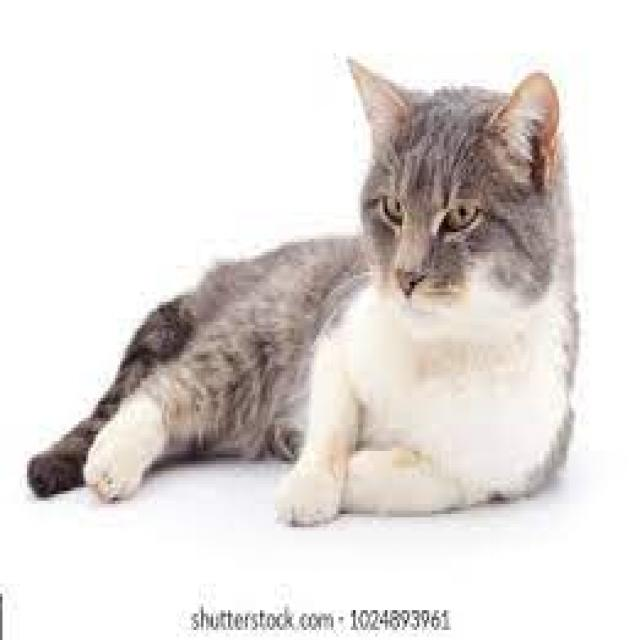Cat: (24, 51, 589, 542)
